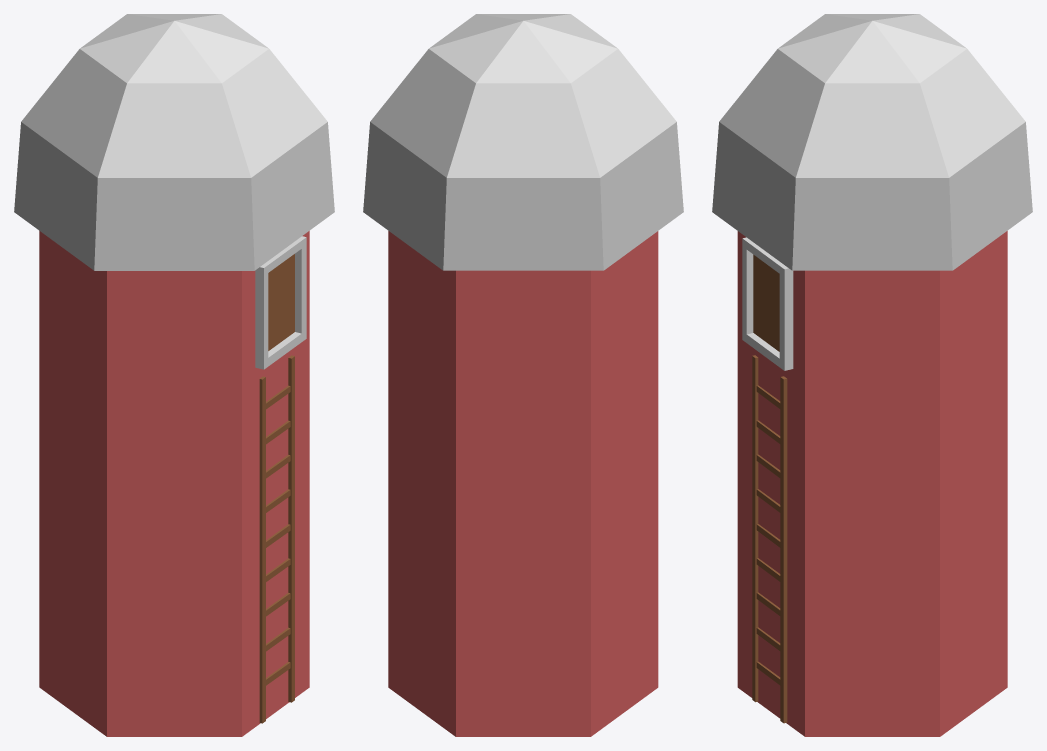
The model's file is caixadagua.fbx.
The picture shows the model from 3 angles, left to right: view 1: azimuth 30°, elevation 25°; view 2: azimuth 150°, elevation 25°; view 3: azimuth 270°, elevation 25°; orthographic projection.
Parts seen in each view (by area): view 1: CaixaDAgua; view 2: CaixaDAgua; view 3: CaixaDAgua.
Boxes of the visible parts, x1=… form: CaixaDAgua: x1=14, y1=14, x2=334, y2=736; CaixaDAgua: x1=363, y1=14, x2=683, y2=736; CaixaDAgua: x1=712, y1=14, x2=1032, y2=736.
Bounding box in the file's own units: 290 × 769 × 335.
